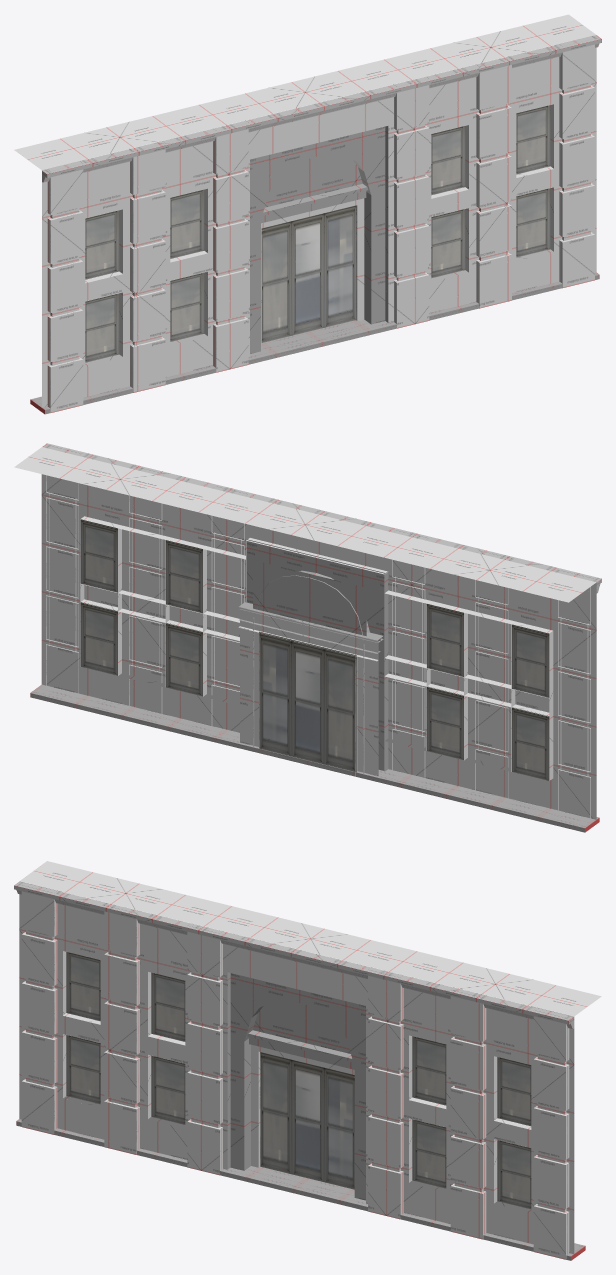
The picture shows the model from 3 angles, top to bottom: view 1: azimuth 30°, elevation 25°; view 2: azimuth 150°, elevation 25°; view 3: azimuth 330°, elevation 25°; orthographic projection.
Parts seen in each view (by area): view 1: B_05_3x_a, B_03_extra_a, B_03_border_t, B_03_border_b; view 2: B_05_3x_a, B_03_border_b, B_03_extra_a, B_03_border_t; view 3: B_05_3x_a, B_03_extra_a, B_03_border_t, B_03_border_b.
Part boxes in pixels (<box>): B_05_3x_a: <box>14,14,596,407</box>; B_03_extra_a: <box>47,38,594,412</box>; B_03_border_t: <box>42,35,601,182</box>; B_03_border_b: <box>30,272,599,414</box>; B_05_3x_a: <box>14,447,596,819</box>; B_03_border_b: <box>30,684,599,832</box>; B_03_extra_a: <box>46,446,593,818</box>; B_03_border_t: <box>42,443,601,593</box>; B_05_3x_a: <box>19,861,601,1254</box>; B_03_extra_a: <box>21,884,569,1259</box>; B_03_border_t: <box>14,881,574,1029</box>; B_03_border_b: <box>16,1119,585,1260</box>.
Size of the model in its own units: 60.01 by 6.22 by 25.01.
